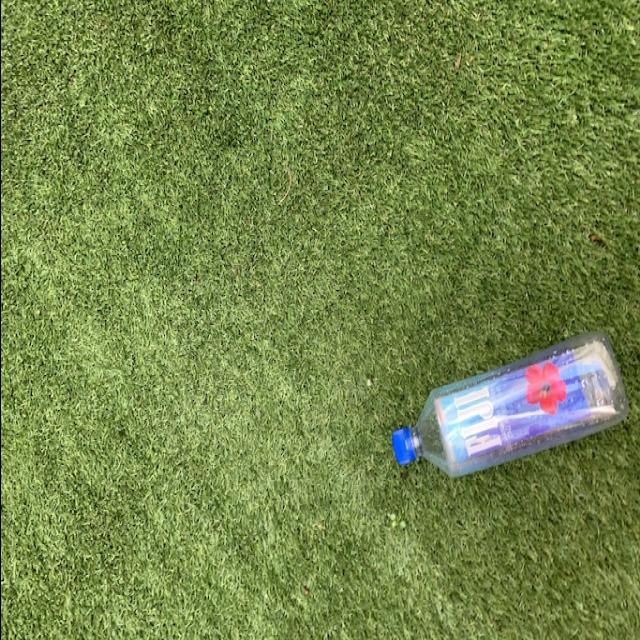PET: (386, 335, 625, 483)
